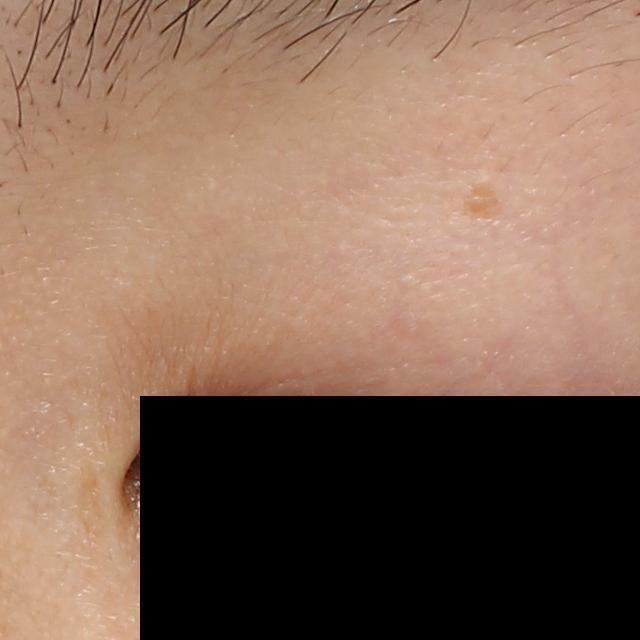melasma: (460, 178, 512, 226)
